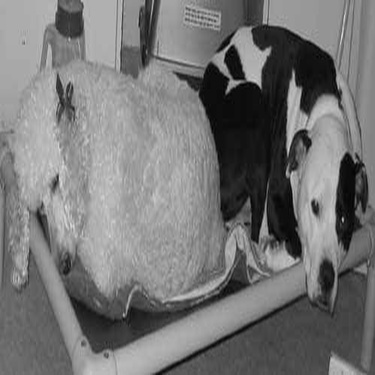dog: (1, 42, 226, 310), (190, 16, 368, 319)
